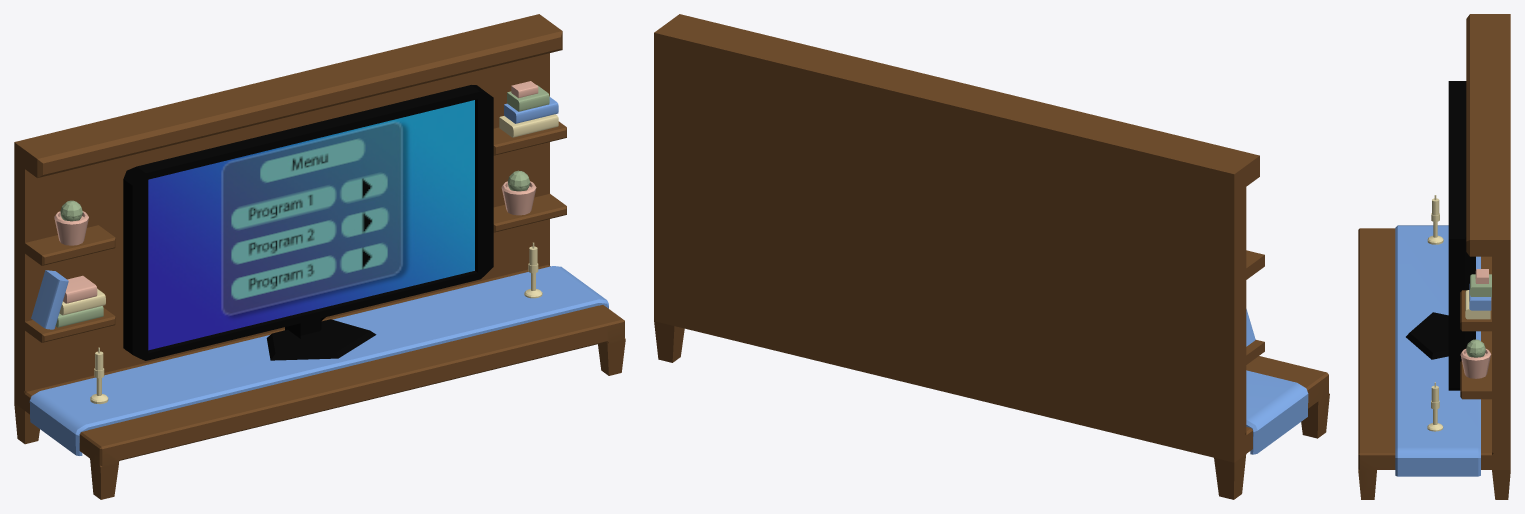
File: geo_TVON_01.fbx
3 renders of one model, left to right at view 1: azimuth 30°, elevation 25°; view 2: azimuth 150°, elevation 25°; view 3: azimuth 270°, elevation 25°, orthographic. The views are drawn at different scales.
Parts seen in each view (by area): view 1: Cabinet, geo_TV_01, geo_tableRunner_02, geo_TVStand_01, geo_Book_0, geo_Book_6, geo_PlantContainer_01, geo_PlantContainer_02, geo_Book_5, geo_Book_3; view 2: Cabinet, geo_tableRunner_02; view 3: Cabinet, geo_tableRunner_02, geo_TV_01, geo_TVStand_01, geo_PlantContainer_02, geo_candle_06, geo_candle_07, geo_Book_4, geo_Book_6, geo_Book_5, geo_plantShrub_03, geo_Book_7.
Boxes of the visible parts, x1,y1,x2,y2 form: Cabinet: (14, 14, 625, 499); geo_TV_01: (123, 85, 493, 360); geo_tableRunner_02: (29, 266, 608, 455); geo_TVStand_01: (266, 319, 376, 360); geo_Book_0: (31, 270, 68, 329); geo_Book_6: (499, 114, 558, 137); geo_PlantContainer_01: (54, 211, 88, 245); geo_PlantContainer_02: (501, 181, 536, 215); geo_Book_5: (504, 97, 558, 123); geo_Book_3: (63, 275, 97, 303); Cabinet: (654, 14, 1329, 499); geo_tableRunner_02: (1246, 370, 1308, 454); Cabinet: (1358, 14, 1510, 499); geo_tableRunner_02: (1395, 225, 1480, 476); geo_TV_01: (1448, 81, 1475, 390); geo_TVStand_01: (1406, 312, 1448, 359); geo_PlantContainer_02: (1460, 349, 1491, 378); geo_candle_06: (1427, 195, 1443, 244); geo_candle_07: (1427, 382, 1443, 431); geo_Book_4: (1470, 274, 1491, 297); geo_Book_6: (1465, 290, 1490, 319); geo_Book_5: (1469, 283, 1491, 310); geo_plantShrub_03: (1466, 339, 1485, 356); geo_Book_7: (1475, 269, 1488, 283).
Bounding box in the file's own units: 283 × 150 × 79.66.
11 materials, 1 textured.
